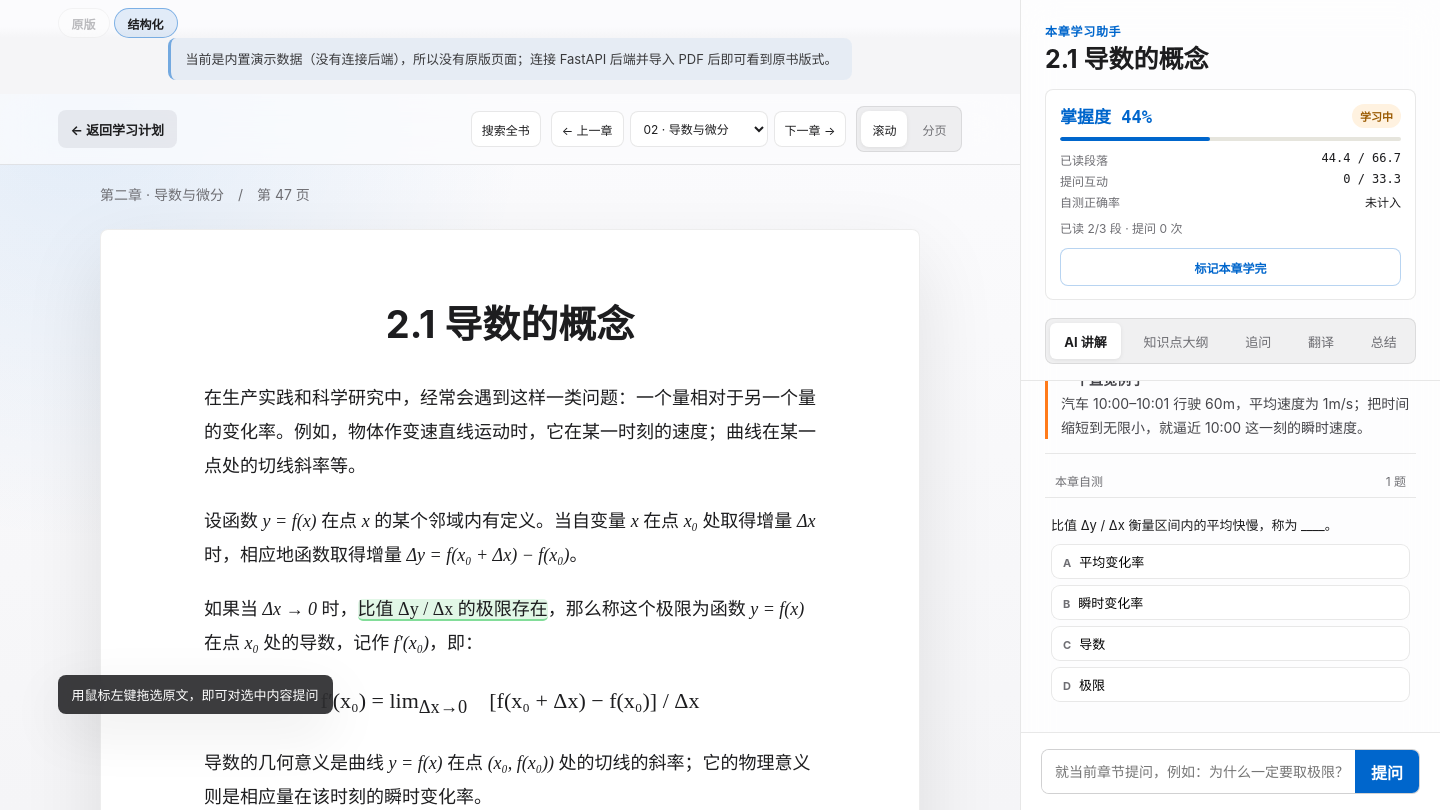
Scenario: 章末自测 › 提交失败时说清原因，并允许重答
The width and height of the screenshot is (1440, 810).
(page scrolled)
What coordinates should you click on to do the following:
click the button with test id "quiz-option-ch2-q1-0"
I would click on:
 (1112, 562)
Its box is [1051,544,1410,580].
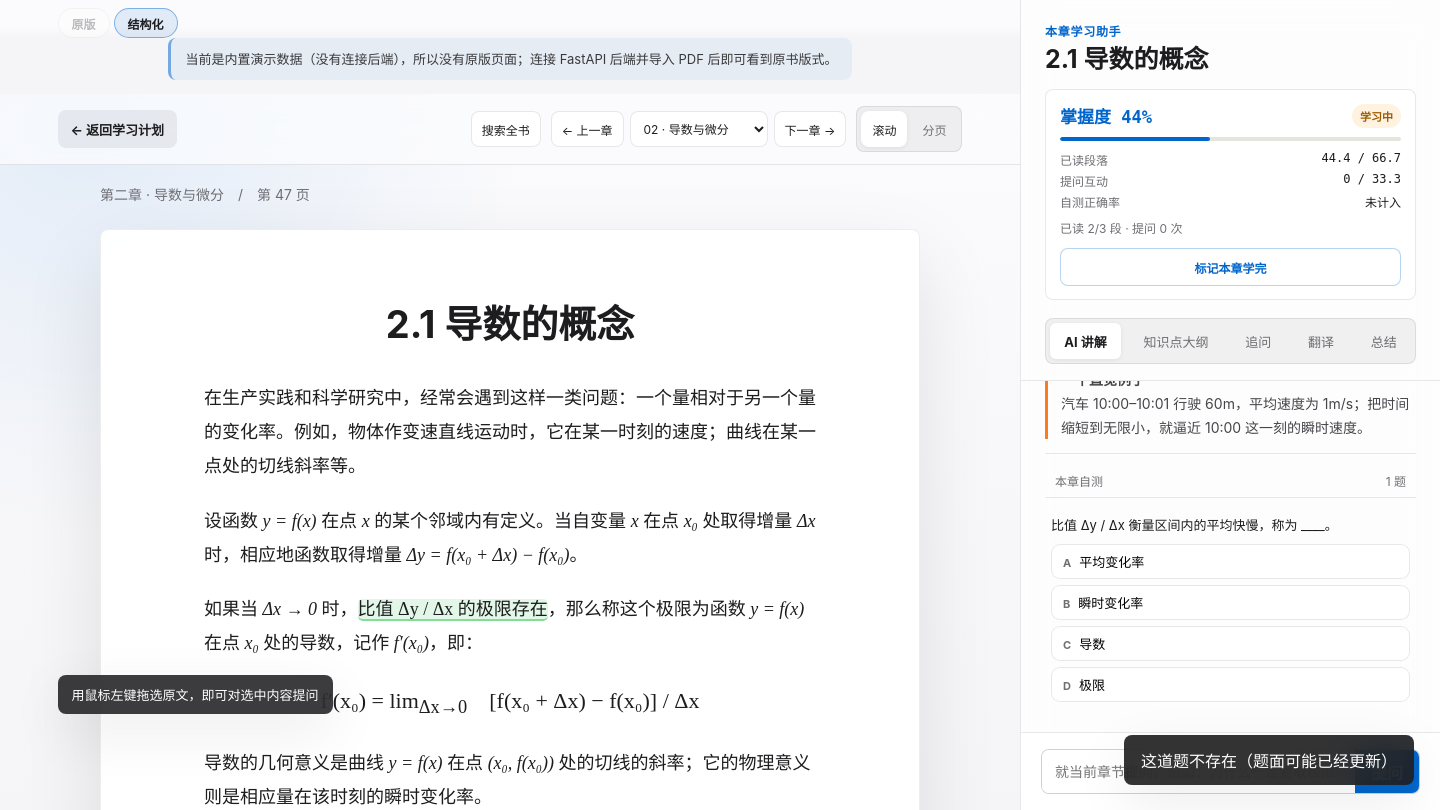
Expected: the button with test id "quiz-option-ch2-q1-1" is enabled, [1051,586,1410,620]
Expected: the text "这道题不存在（题面可能已经更新）" is shown, [1124,735,1414,785]
